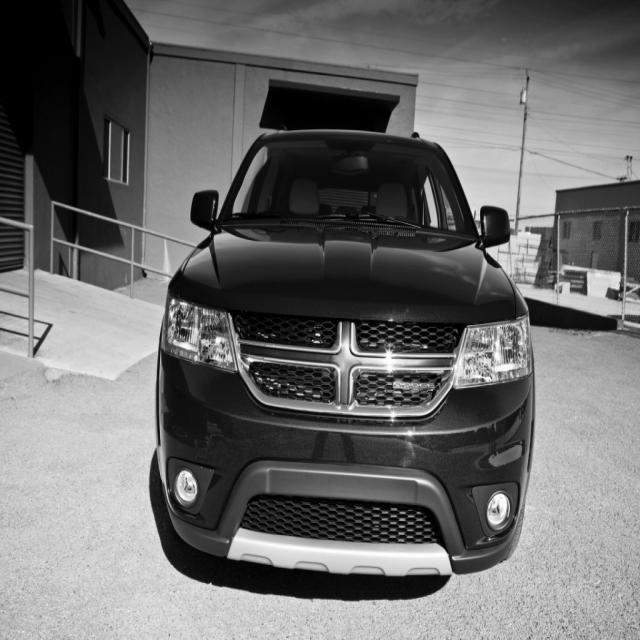car: (154, 126, 536, 578)
